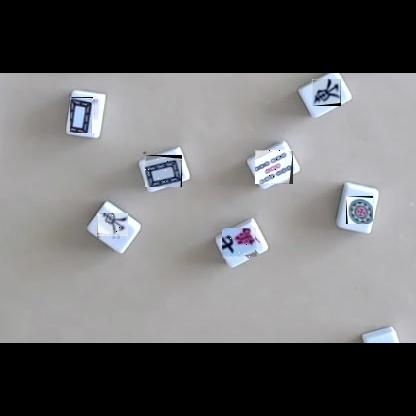1p: (346, 196, 373, 224)
1z: (312, 79, 341, 106), (97, 214, 128, 239)
5s: (255, 150, 293, 184)
5z: (145, 155, 182, 187), (71, 97, 98, 133)
7m: (223, 229, 260, 260)
